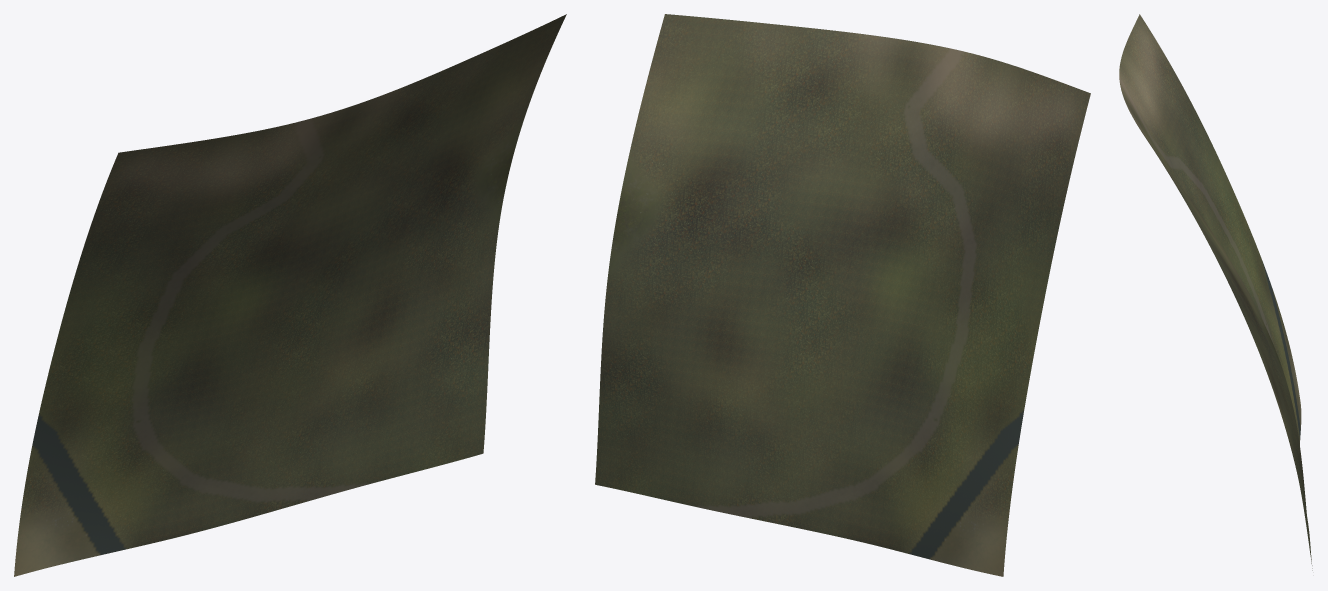
File: ground_core_01_06.obj
The picture shows the model from 3 angles, left to right: view 1: azimuth 30°, elevation 25°; view 2: azimuth 150°, elevation 25°; view 3: azimuth 270°, elevation 25°; orthographic projection. The views are drawn at different scales.
Parts seen in each view (by area): view 1: ground_core_01_06; view 2: ground_core_01_06; view 3: ground_core_01_06.
Part boxes in pixels (x1=…): ground_core_01_06: x1=14, y1=14, x2=566, y2=576; ground_core_01_06: x1=595, y1=14, x2=1090, y2=576; ground_core_01_06: x1=1119, y1=14, x2=1312, y2=570.
Bounding box in the file's own units: 50 × 50 × 22.97.
1 material, 1 textured.
